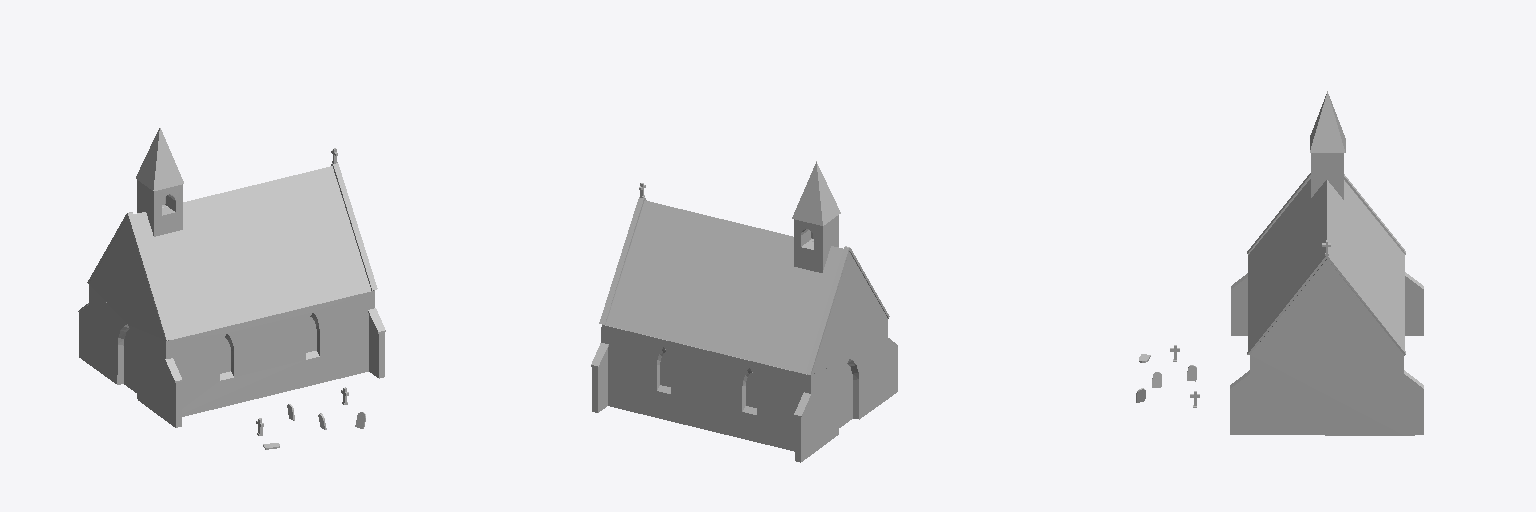
File: church_v.obj
The picture shows the model from 3 angles: view 1: azimuth 30°, elevation 25°; view 2: azimuth 150°, elevation 25°; view 3: azimuth 270°, elevation 25°; orthographic projection.
Visible parts, largest first — view 1: church_v_3 pasted__group2 group; view 2: church_v_3 pasted__group2 group; view 3: church_v_3 pasted__group2 group.
Part boxes in pixels (bbox=[...]): church_v_3 pasted__group2 group: bbox=[78, 128, 385, 449]; church_v_3 pasted__group2 group: bbox=[591, 161, 897, 462]; church_v_3 pasted__group2 group: bbox=[1136, 91, 1423, 435].
Bounding box in the file's own units: 11.57 × 13.57 × 13.67.